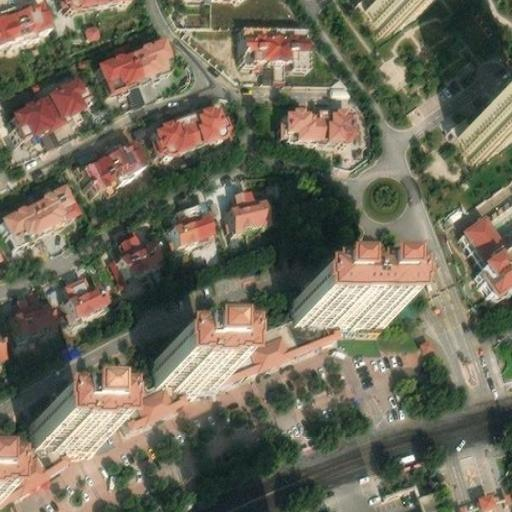building: (211, 311, 341, 377), (1, 178, 80, 240), (0, 437, 70, 502), (150, 95, 231, 149), (100, 32, 177, 86), (296, 280, 394, 321), (88, 132, 153, 186), (121, 375, 200, 419), (457, 91, 512, 154), (156, 341, 225, 389), (279, 101, 364, 137), (36, 406, 102, 452), (242, 19, 311, 60), (9, 86, 65, 135), (115, 224, 166, 275), (50, 67, 100, 114), (66, 269, 111, 316), (13, 290, 60, 334), (463, 208, 507, 254), (175, 197, 219, 240), (360, 0, 425, 28), (229, 184, 271, 223), (474, 493, 509, 512), (0, 329, 9, 353)
